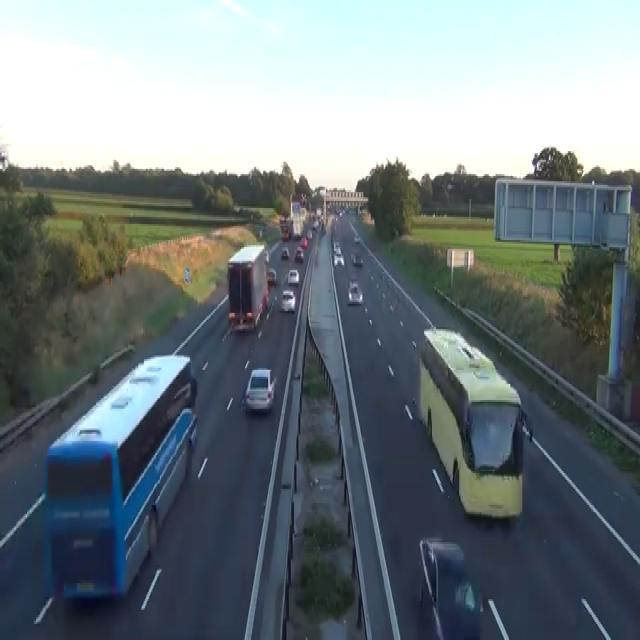Car: (417, 537, 483, 638), (241, 367, 276, 412), (347, 281, 362, 304), (281, 290, 295, 311), (333, 247, 344, 267), (287, 268, 299, 284), (266, 266, 276, 284), (257, 222, 268, 238), (0, 149, 8, 171), (351, 251, 363, 265), (294, 246, 304, 262), (280, 226, 289, 240), (280, 247, 289, 260), (333, 244, 341, 254), (300, 237, 308, 247), (293, 231, 301, 240), (264, 249, 269, 263), (312, 220, 319, 230), (446, 182, 454, 190), (321, 222, 326, 233), (351, 251, 356, 261), (279, 217, 286, 224), (354, 234, 360, 242), (306, 230, 312, 238), (258, 230, 263, 237)
Truck: (43, 352, 198, 601), (418, 325, 532, 519), (226, 244, 269, 332), (290, 201, 304, 236), (279, 215, 293, 240)
